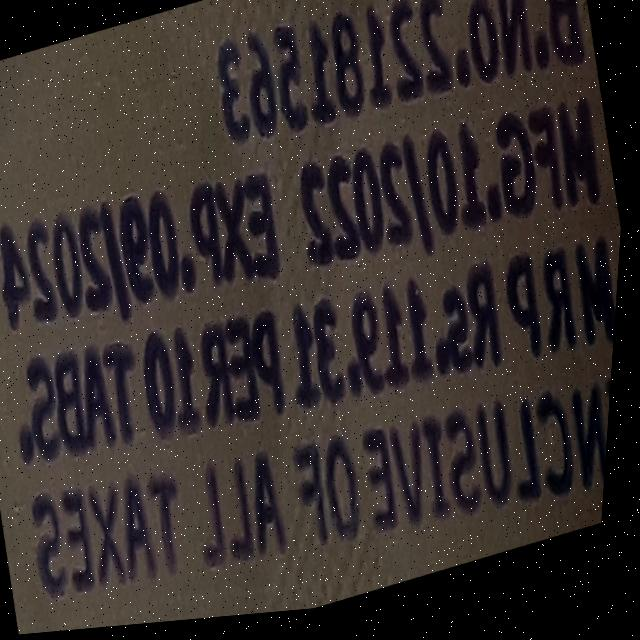sentence: (2, 106, 604, 330), (25, 246, 621, 468), (39, 388, 617, 602), (220, 0, 585, 148)
